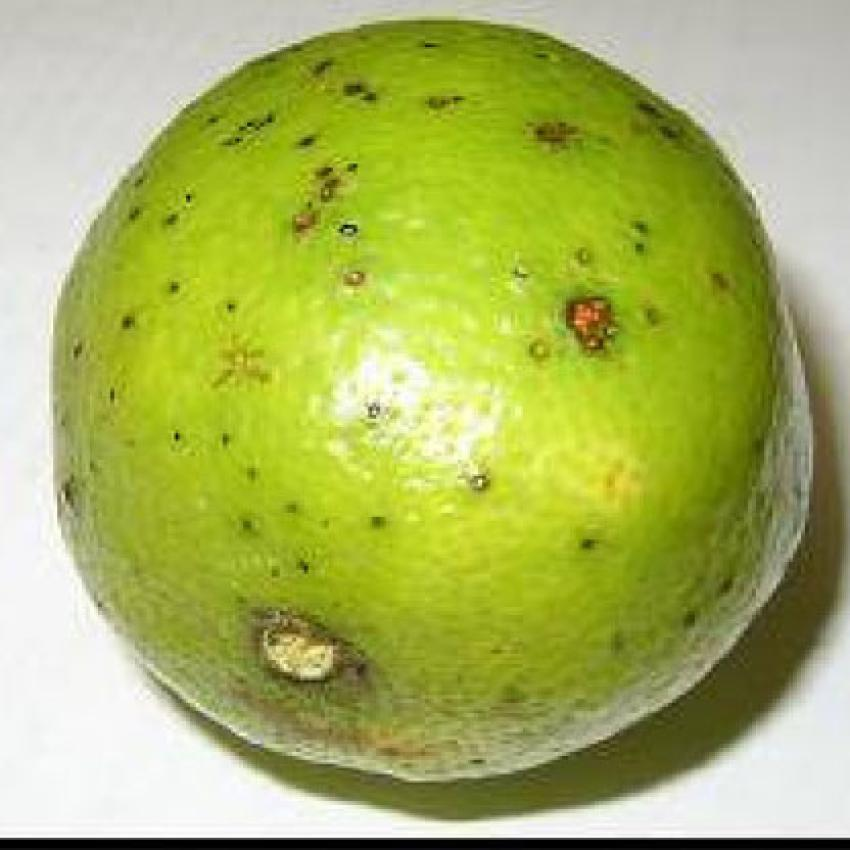Mal estado: (43, 2, 824, 796)
